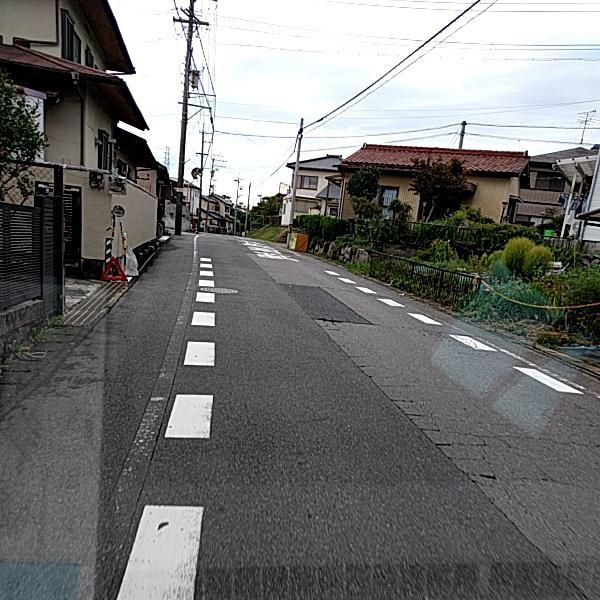D20: (338, 344, 570, 473)
D50: (194, 283, 230, 294)
